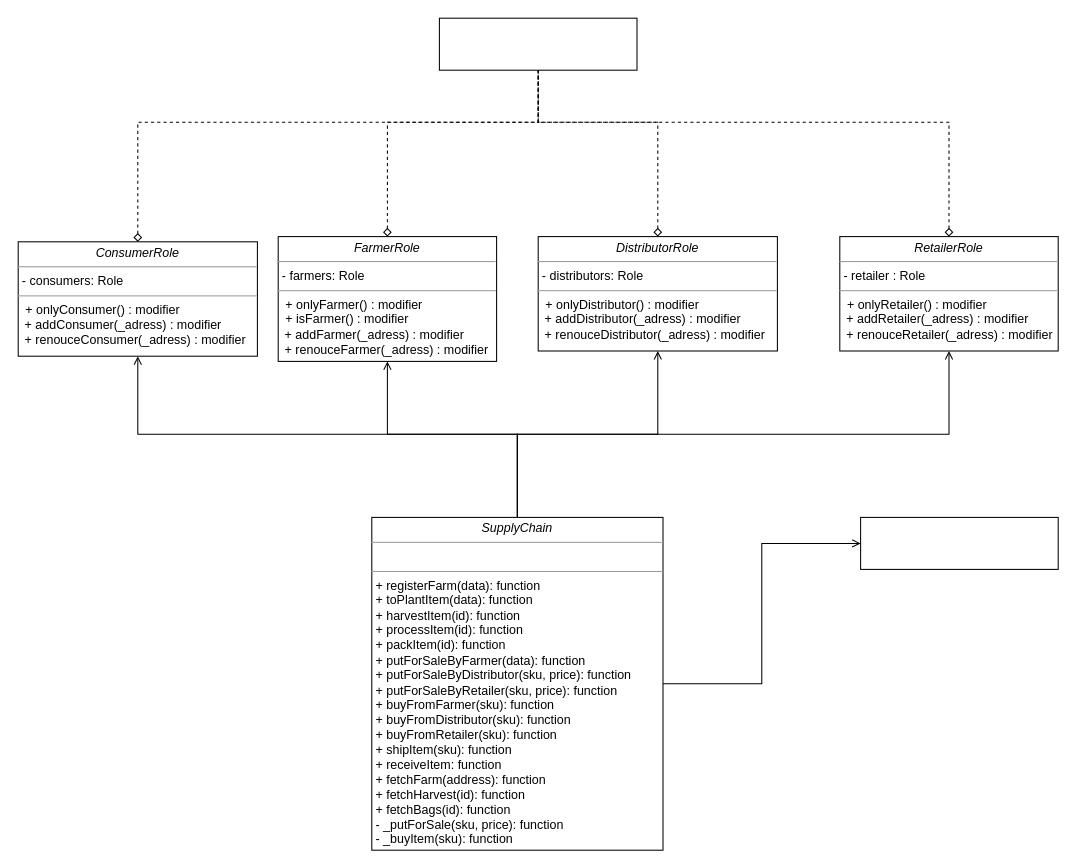
Image size: 1076x868. Some labels were removed from this diagram. The box of each missing label's shape, as (x1, y1, x2, y2) in pixels:
Ownable(openzeppelin): (860, 516, 1058, 569)
Role (openzeppelin): (438, 17, 637, 70)
